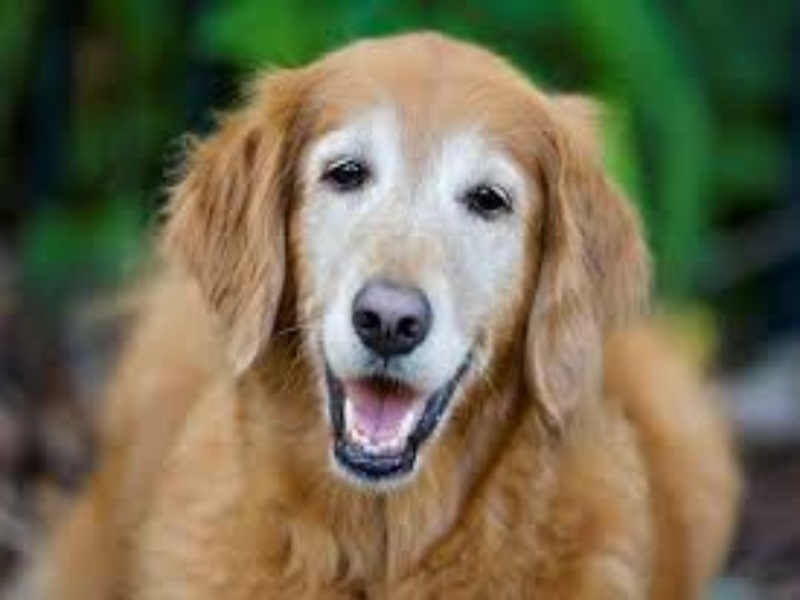dog: (112, 20, 734, 596)
